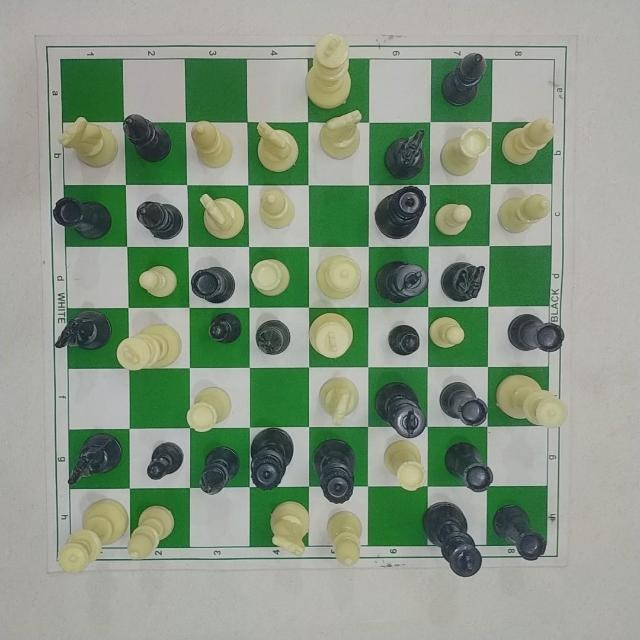black-bishop: (127, 193, 191, 243), (122, 110, 174, 165), (442, 46, 488, 107), (194, 443, 242, 495), (252, 317, 299, 357)
black-king: (421, 500, 489, 584), (374, 380, 431, 441), (377, 255, 429, 305)
black-knight: (65, 429, 129, 489), (55, 307, 111, 357), (383, 128, 430, 184), (438, 256, 488, 305)
black-pawn: (146, 438, 188, 482), (202, 311, 244, 348), (385, 317, 421, 359)
black-queen: (309, 439, 365, 506), (378, 181, 434, 244), (250, 423, 294, 492)
black-rook: (492, 500, 550, 565), (47, 193, 114, 245), (441, 438, 496, 496), (438, 374, 491, 430), (507, 309, 567, 356), (190, 265, 242, 305)
white-bishop: (129, 502, 178, 566), (323, 505, 371, 569), (185, 115, 237, 171), (503, 116, 555, 171), (494, 189, 549, 238), (257, 183, 305, 237)
white-king: (304, 30, 360, 108), (114, 324, 188, 372), (307, 310, 359, 364)
white-knight: (58, 112, 119, 171), (195, 188, 253, 244), (250, 118, 304, 176), (268, 500, 318, 560), (316, 373, 368, 428), (322, 111, 368, 161)
white-pawn: (135, 257, 182, 305), (428, 313, 470, 352), (434, 201, 473, 241)
white-queen: (60, 495, 127, 572), (496, 368, 567, 431), (316, 251, 365, 303)
white-rook: (436, 124, 492, 178), (382, 436, 430, 496), (182, 382, 237, 432), (250, 255, 297, 297)
